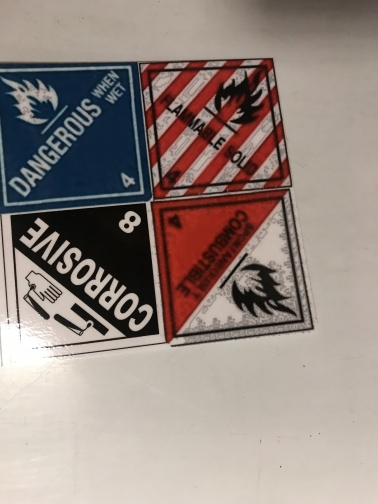Corrosive: (3, 202, 167, 350)
DangerousWhenWet: (2, 61, 152, 216)
FlammableSolid: (138, 58, 296, 199)
SpontaneouslyCombustible: (152, 190, 316, 347)
